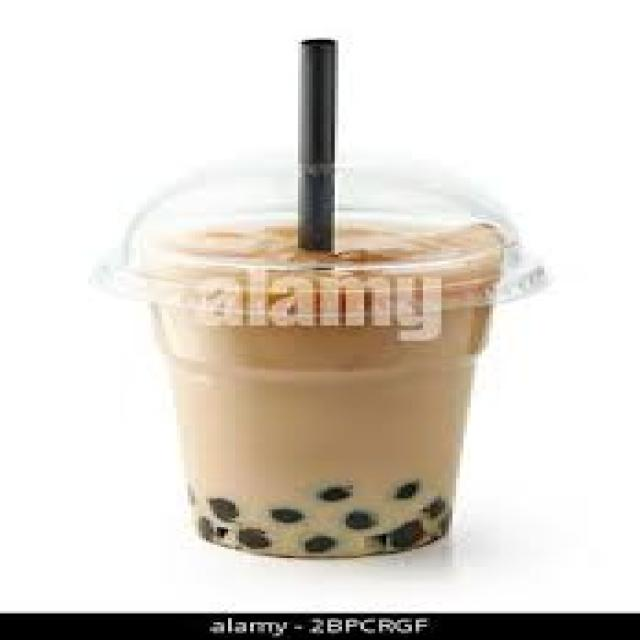bottle: (155, 213, 505, 557)
